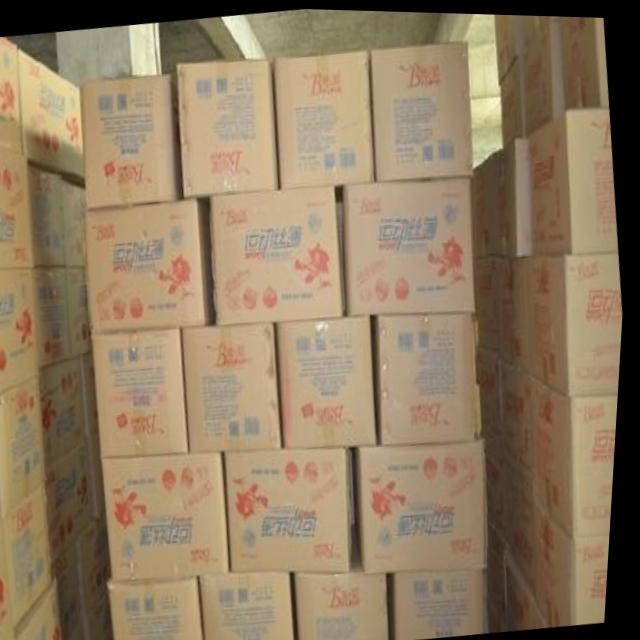box: (211, 183, 348, 323), (343, 173, 479, 313), (356, 436, 494, 571), (86, 196, 217, 334), (106, 452, 235, 580), (228, 445, 358, 568), (370, 37, 474, 179), (80, 71, 185, 209), (177, 56, 280, 196), (273, 46, 376, 186), (535, 371, 622, 534), (375, 310, 481, 442), (529, 250, 626, 392), (279, 314, 382, 446), (184, 321, 287, 451), (530, 104, 621, 250), (96, 327, 192, 456), (300, 529, 396, 640), (539, 498, 616, 623), (19, 46, 86, 186), (9, 477, 59, 628), (0, 374, 51, 518), (399, 566, 495, 639), (205, 570, 301, 640), (52, 436, 102, 565), (115, 574, 210, 640), (485, 132, 535, 254), (0, 266, 42, 392), (43, 356, 90, 467), (524, 14, 565, 135), (504, 353, 538, 498), (559, 13, 610, 104), (0, 145, 35, 267), (510, 470, 542, 598), (35, 265, 74, 370), (83, 508, 118, 621), (30, 165, 69, 266), (479, 344, 509, 470), (502, 252, 534, 369), (511, 549, 557, 628), (59, 539, 92, 640), (22, 576, 70, 640), (0, 36, 24, 152), (476, 253, 504, 349), (69, 265, 97, 357), (500, 52, 526, 141), (494, 11, 526, 80), (63, 179, 88, 267), (79, 588, 121, 640), (83, 351, 103, 436), (474, 158, 490, 256), (524, 12, 559, 35)
